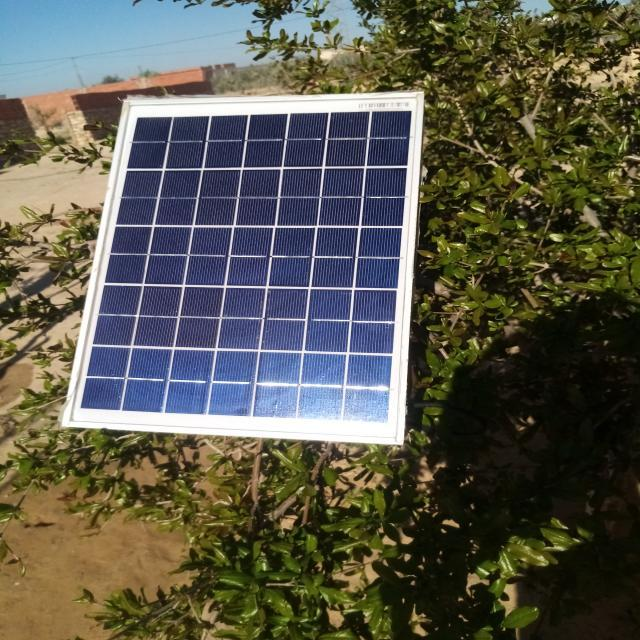no faulty: (66, 95, 425, 440)
